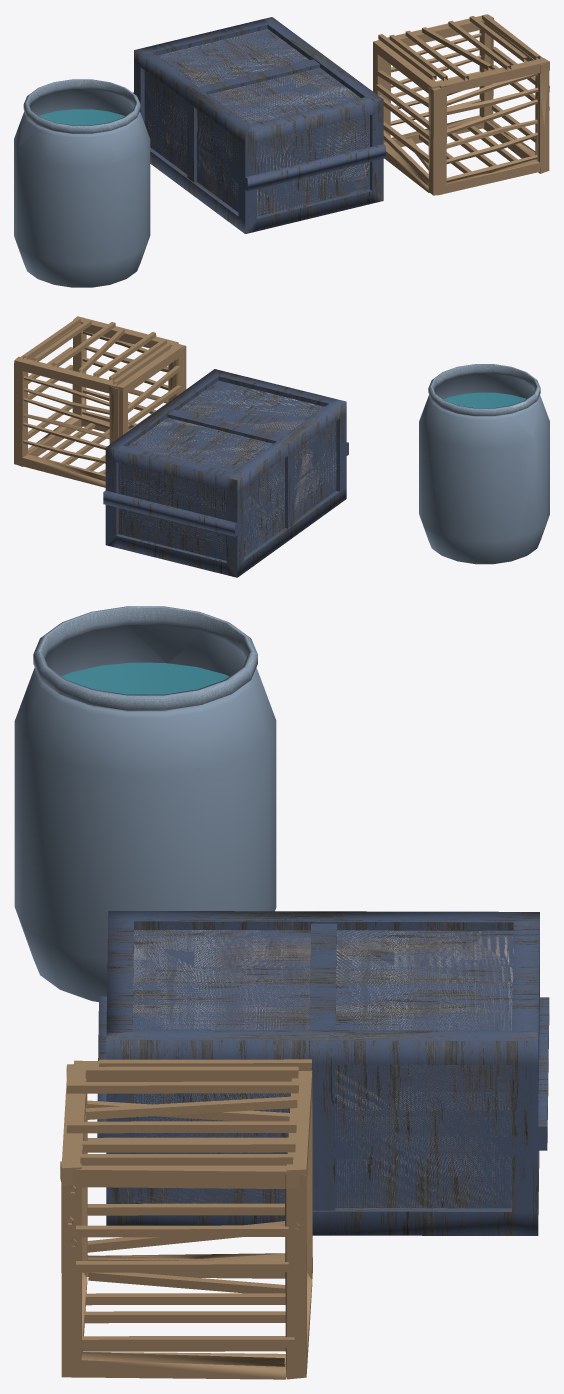
Rendered from Props.fbx.
The picture shows the model from 3 angles, top to bottom: view 1: azimuth 30°, elevation 25°; view 2: azimuth 150°, elevation 25°; view 3: azimuth 270°, elevation 25°; orthographic projection. The views are drawn at different scales.
Parts seen in each view (by area): view 1: Group2, Group3, Group1; view 2: Group2, Group3, Group1; view 3: Group2, Group3, Group1.
Part boxes in pixels (box(x1,y1,x2,y2)): Group2: box(133, 17, 385, 233); Group3: box(14, 79, 150, 287); Group1: box(373, 14, 549, 195); Group2: box(103, 369, 348, 577); Group3: box(419, 364, 549, 564); Group1: box(14, 316, 186, 487); Group2: box(97, 911, 549, 1235); Group3: box(14, 606, 276, 1002); Group1: box(60, 1059, 312, 1379).
Bounding box in the file's own units: 258 × 78.36 × 122.
